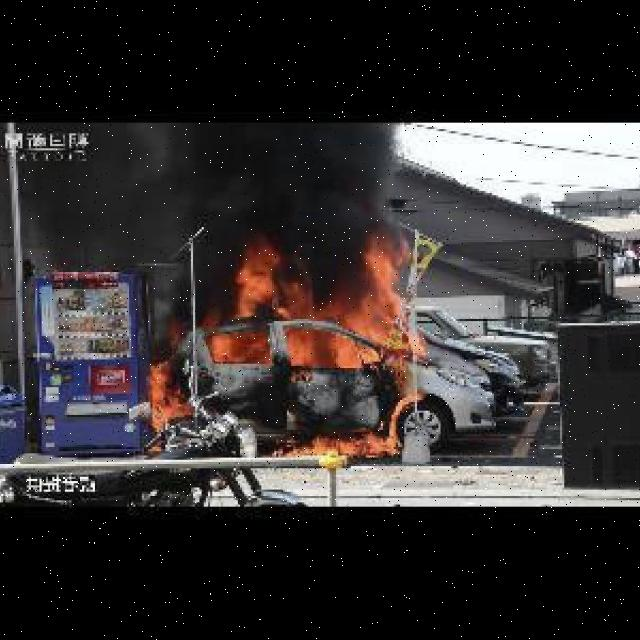fire: (140, 244, 432, 468)
smoke: (7, 122, 415, 296)
